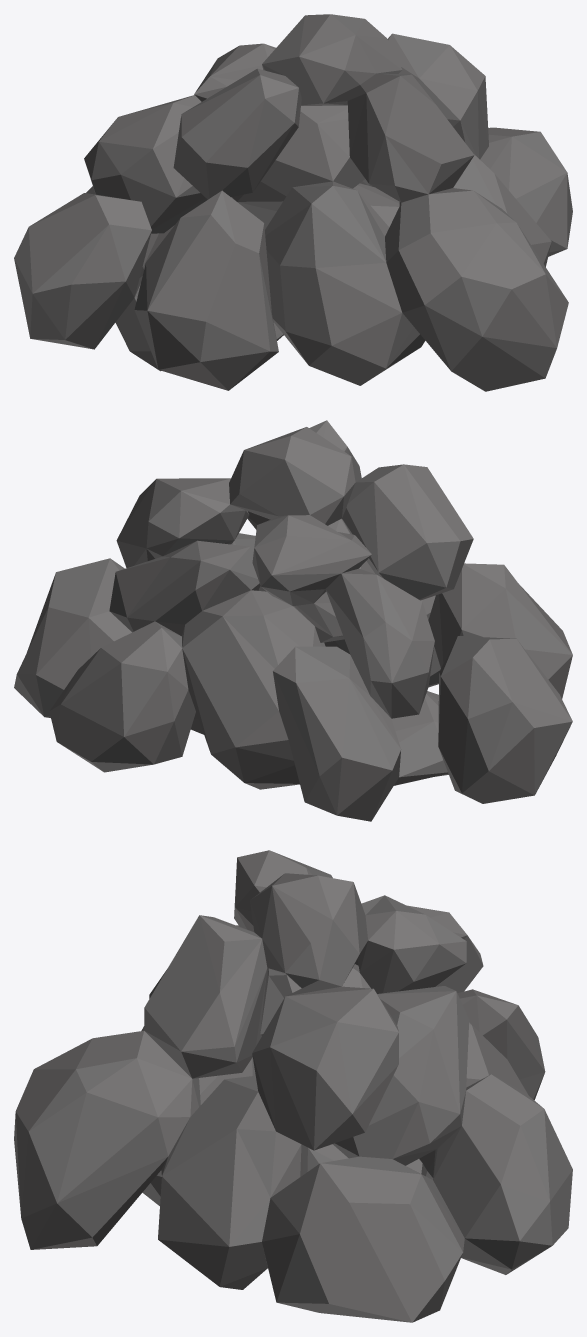
The model's file is grenade_barrier.fbx.
3 views of the same model, one above another, from view 1: azimuth 30°, elevation 25°; view 2: azimuth 150°, elevation 25°; view 3: azimuth 270°, elevation 25° (orthographic). The views are drawn at different scales.
Parts seen in each view (by area): view 1: barrier; view 2: barrier; view 3: barrier.
Part boxes in pixels (<box>): barrier: <box>14,14,572,391</box>; barrier: <box>14,420,572,821</box>; barrier: <box>14,850,572,1322</box>.
Bounding box in the file's own units: 301 × 163 × 241.
